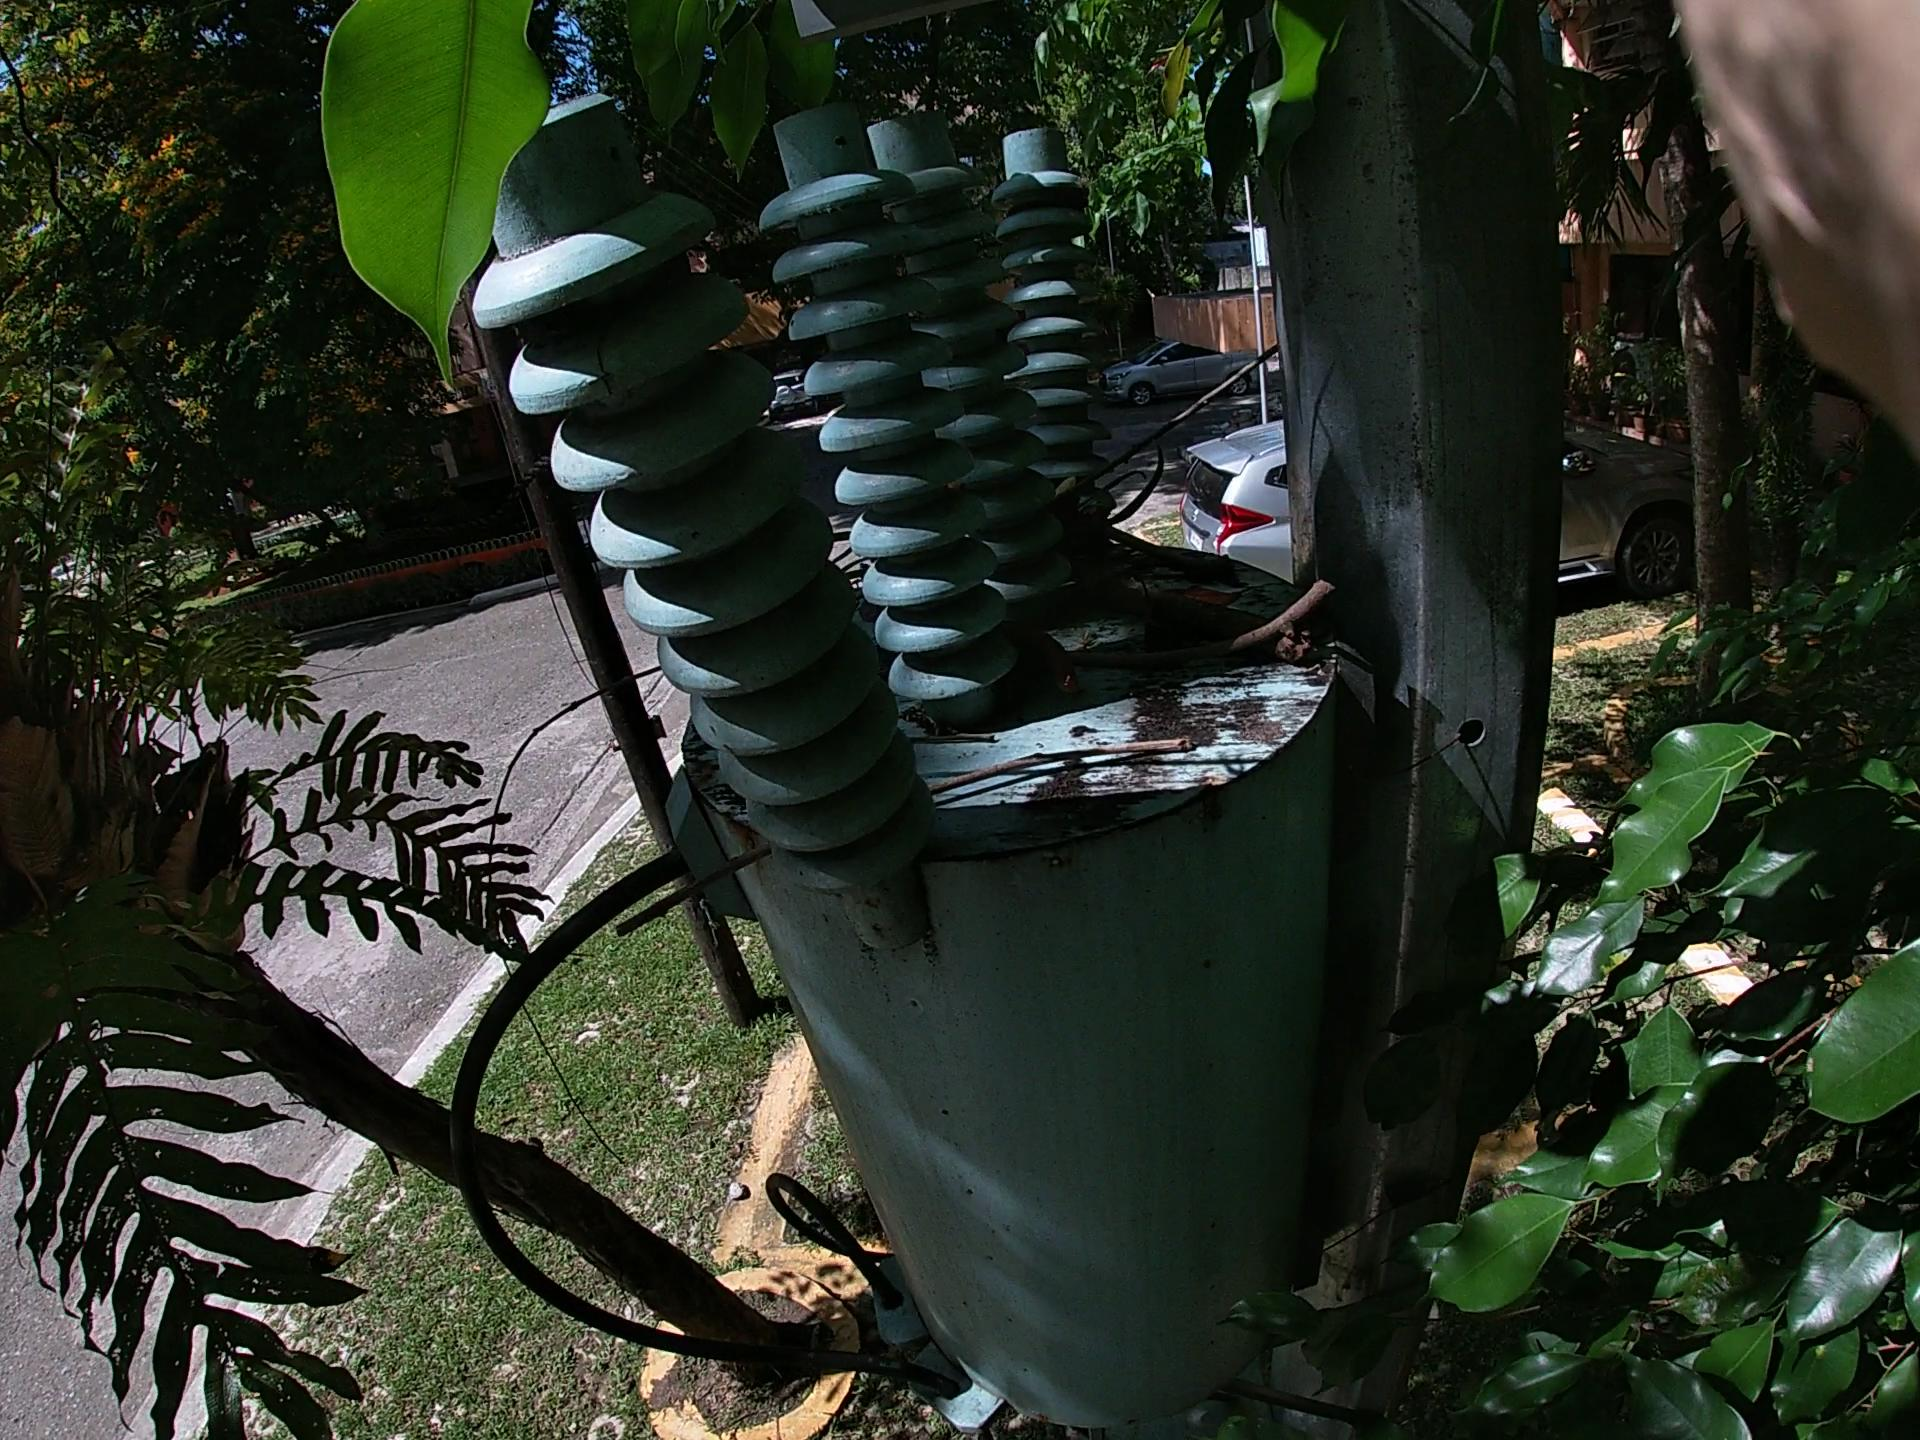branch with leaves: (945, 452, 1336, 725)
leaf: (1085, 554, 1270, 646)
tree branch: (612, 720, 1321, 962), (903, 576, 1365, 773), (1028, 299, 1312, 597), (1028, 476, 1277, 632)
